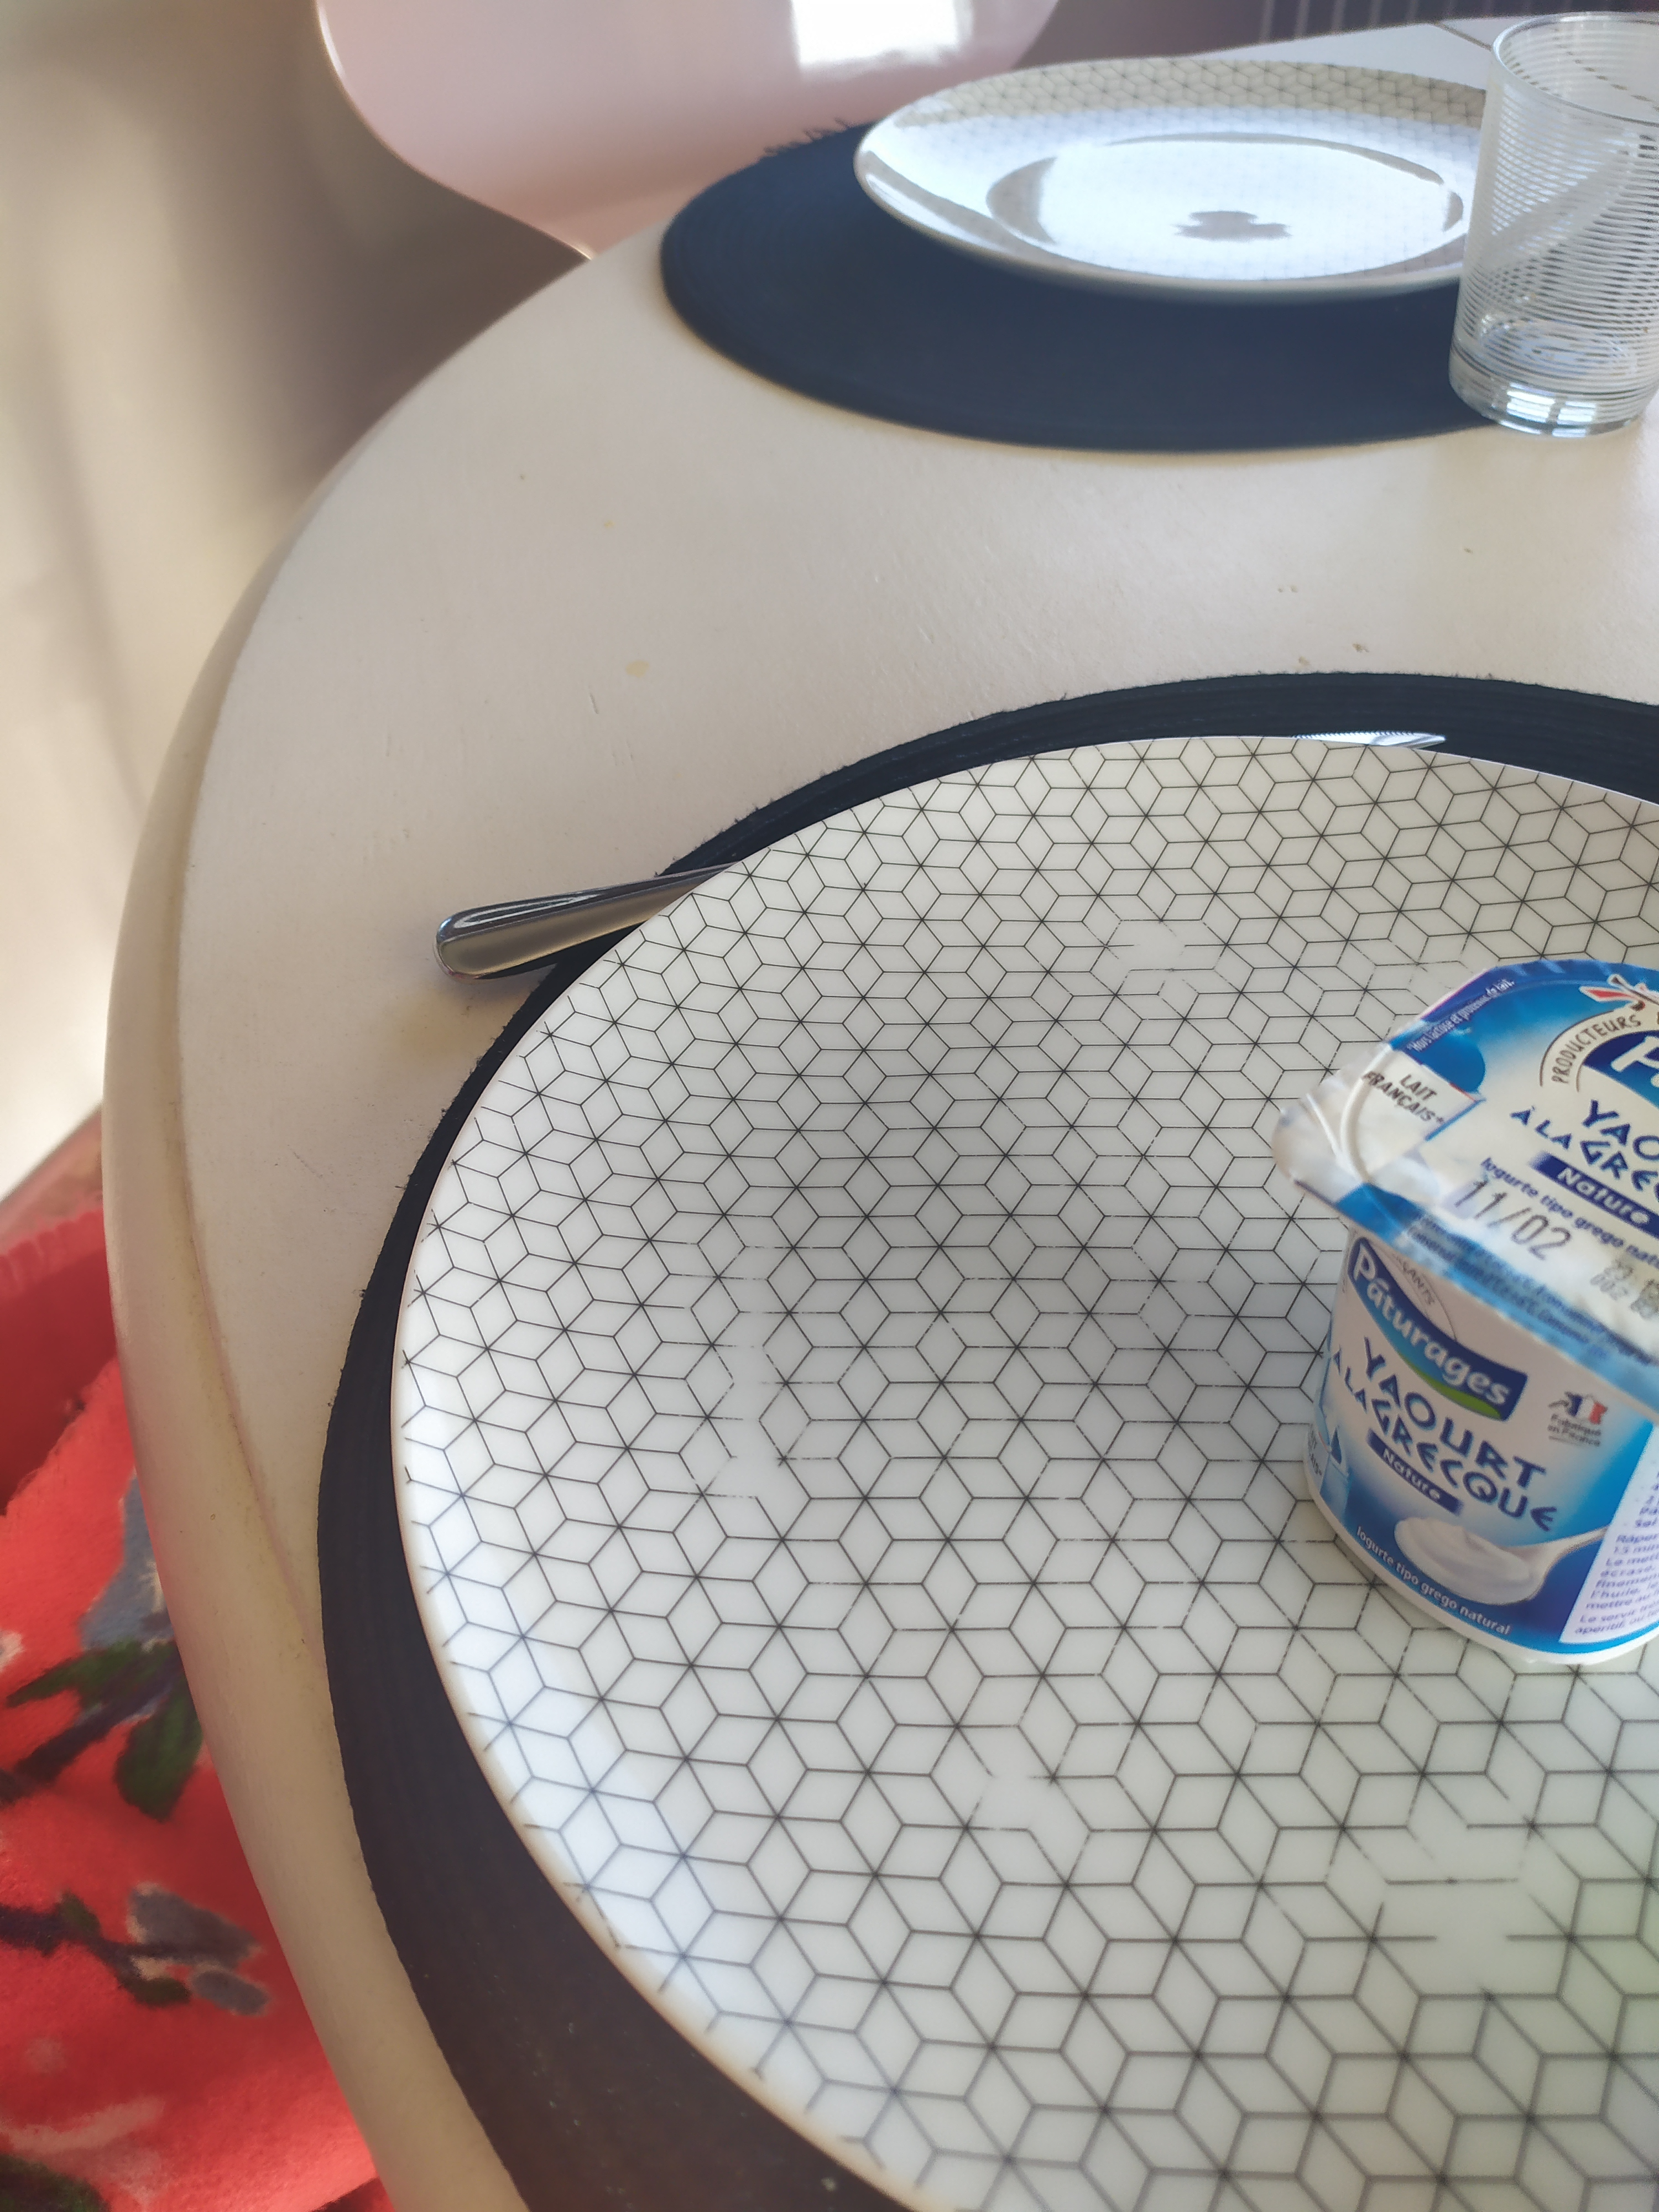yoghurt: (1293, 956, 1659, 1655)
